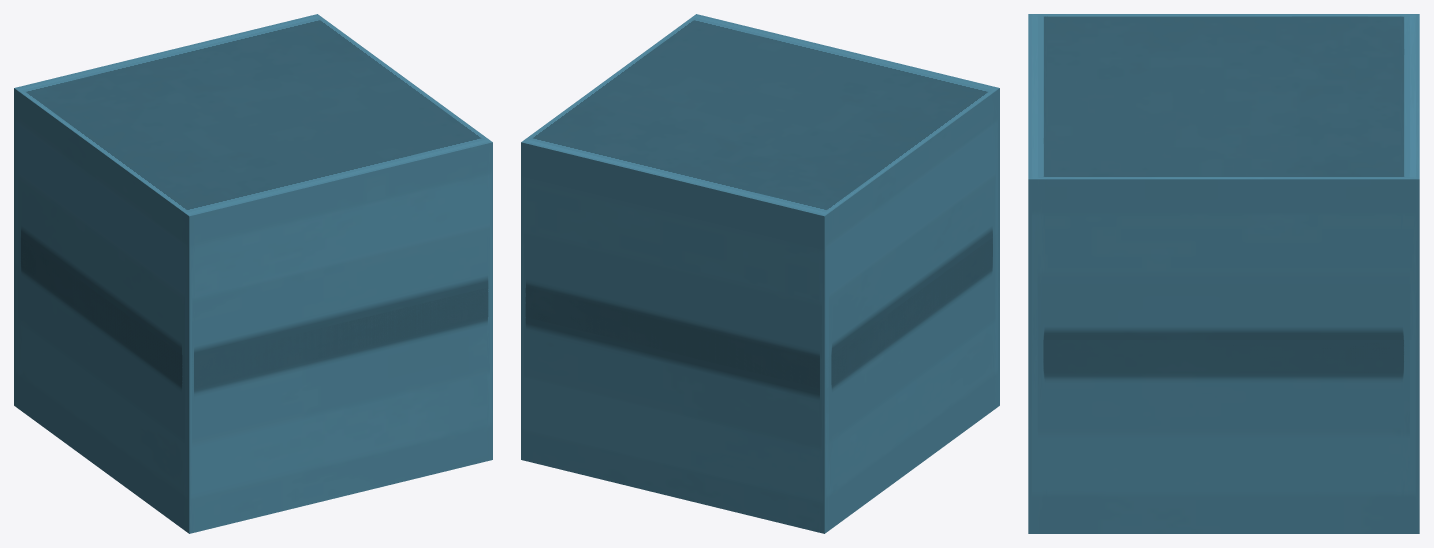
3 views of the same model, side by side, from view 1: azimuth 30°, elevation 25°; view 2: azimuth 150°, elevation 25°; view 3: azimuth 270°, elevation 25° (orthographic). The views are drawn at different scales.
Visible parts, largest first — view 1: MAT_ScalableMesh_03 3; view 2: MAT_ScalableMesh_03 3; view 3: MAT_ScalableMesh_03 3.
Part boxes in pixels (x1,y1,x2,y2): MAT_ScalableMesh_03 3: (14, 14, 492, 533); MAT_ScalableMesh_03 3: (521, 14, 999, 533); MAT_ScalableMesh_03 3: (1028, 14, 1419, 533).
Size of the model in its own units: 1 by 1 by 1.
1 material, 1 textured.
